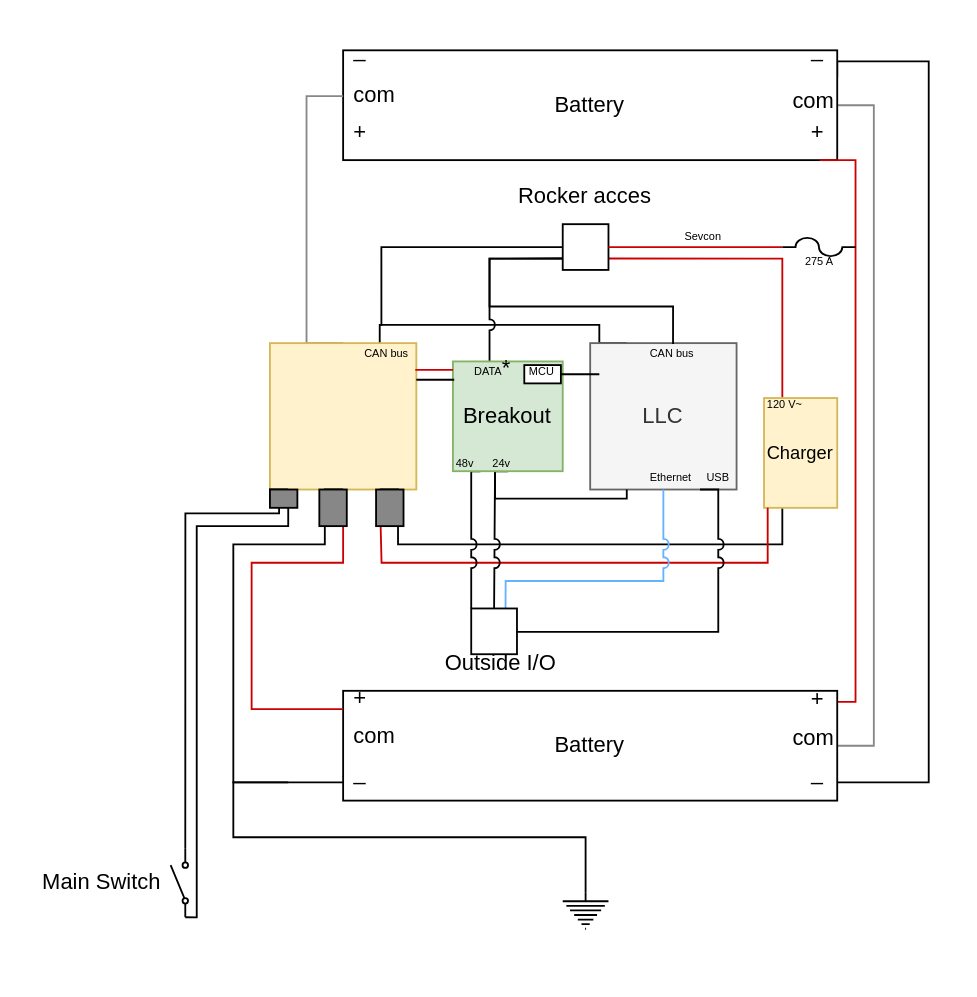
This 977x997 diagram has some shape labels left out. Each missing label, with the box of its shape:
BMS: (268, 341, 416, 490)
Warthog chasis: (561, 890, 608, 929)
